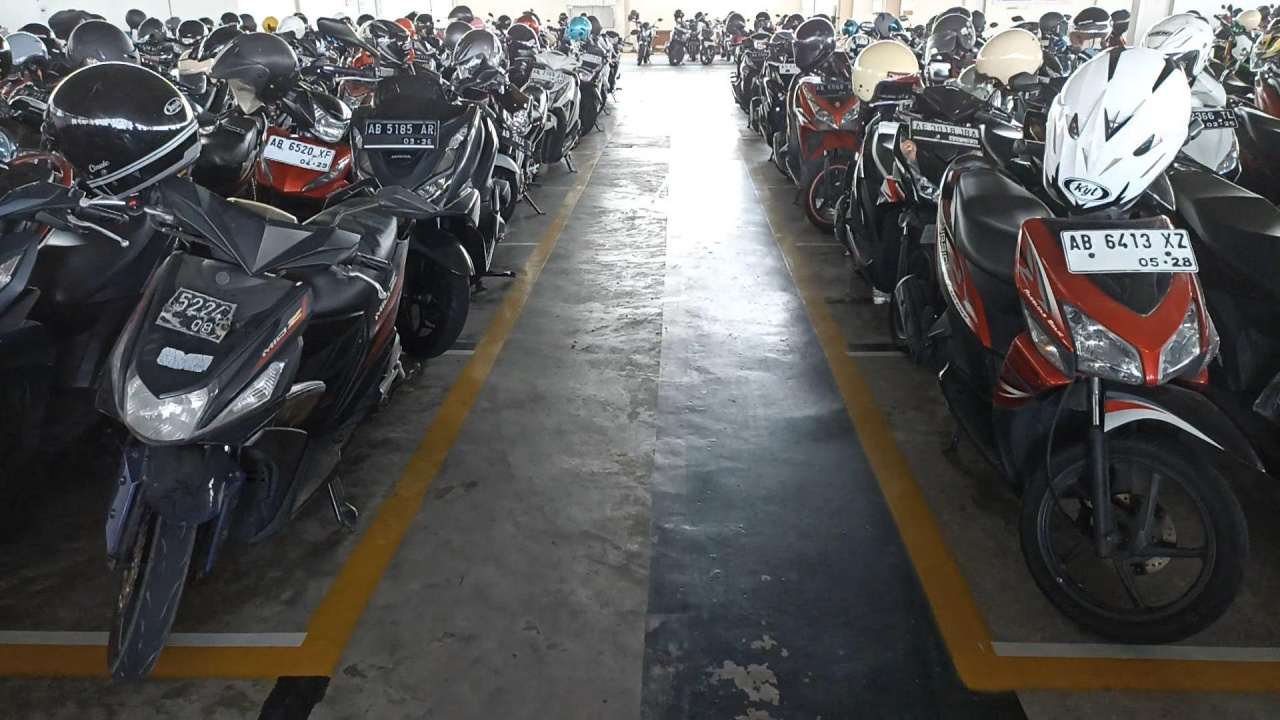plate: (1061, 230, 1199, 273), (156, 288, 235, 341), (261, 135, 335, 172), (363, 120, 438, 149), (911, 119, 981, 149)
